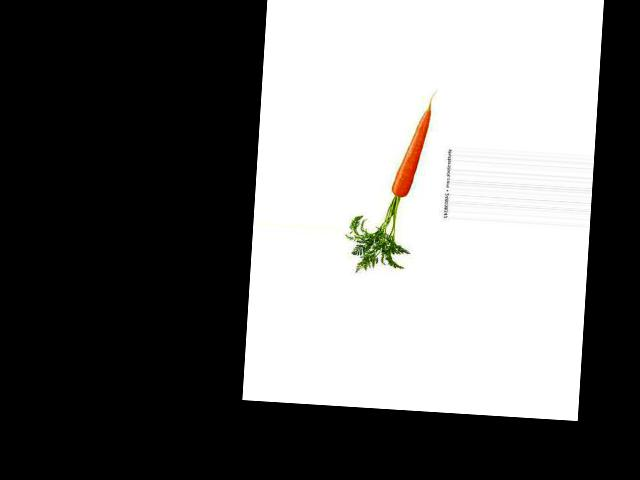carrot: (389, 99, 436, 201)
